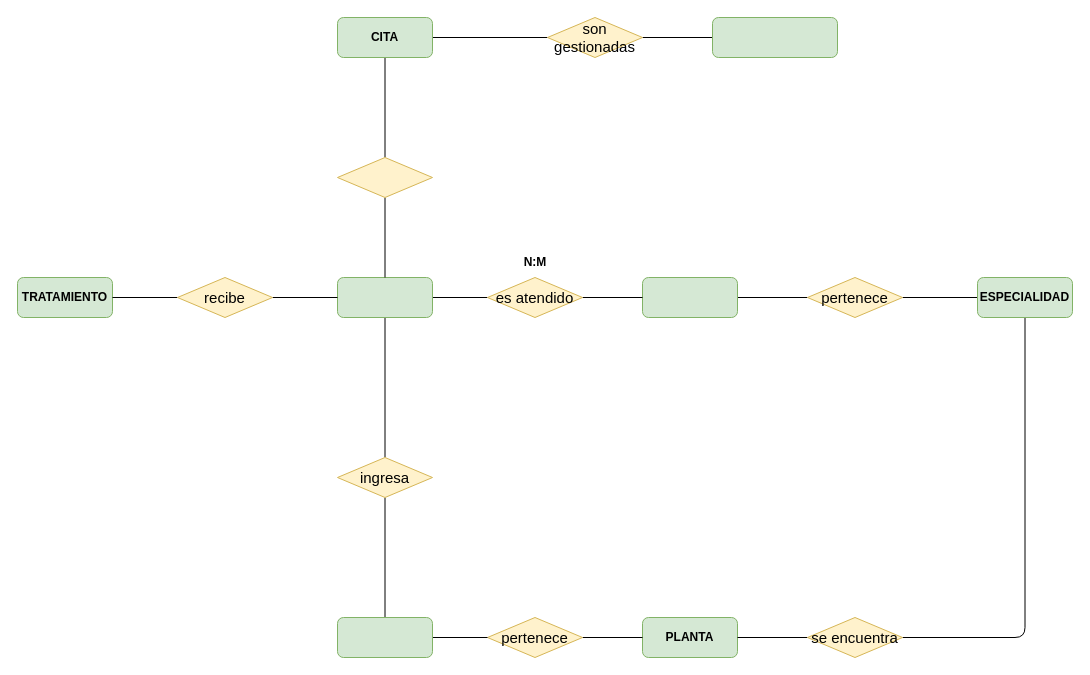
Some shapes in this 1090 by 675 pixel diagram are drawn without their labels. Each missing label, with the box of its shape:
ADMINISTRACIÓN: (712, 16, 838, 58)
HABITACIÓN: (336, 616, 432, 658)
MEDICO: (642, 276, 738, 318)
PACIENTE: (336, 276, 432, 318)
realiza: (336, 156, 432, 198)
